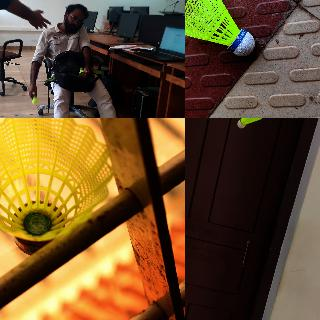shuttlecock: (0, 118, 112, 254), (185, 0, 254, 56), (236, 118, 262, 128), (78, 68, 86, 76)
